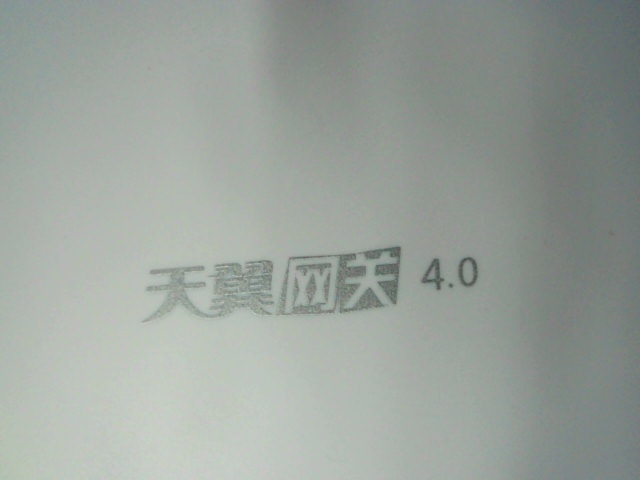BM_TianYiWangGuan: (129, 220, 489, 330)
